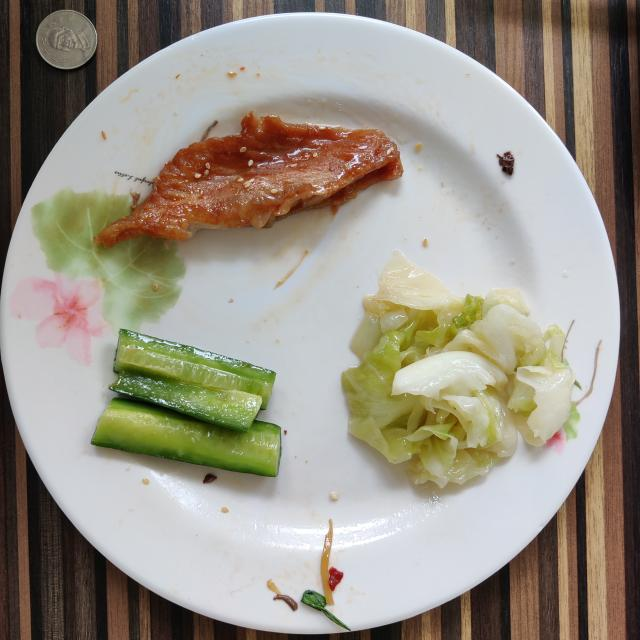Kabayaki sea bream fillet: (94, 112, 402, 248)
cabbage: (342, 251, 580, 488)
coin: (36, 10, 98, 70)
cucumber: (91, 329, 281, 476)
